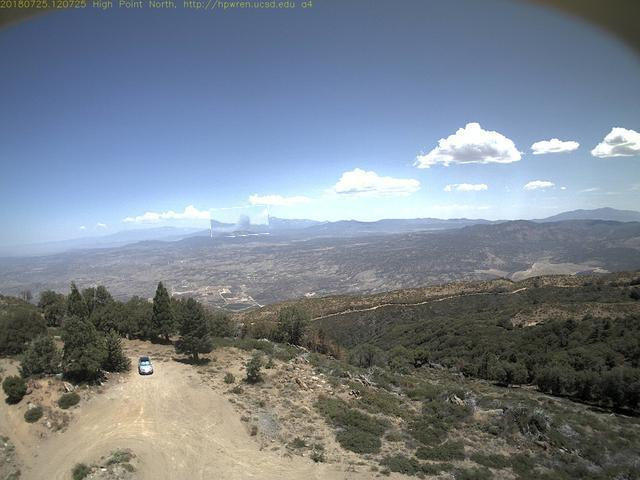smoke: (211, 208, 271, 238)
